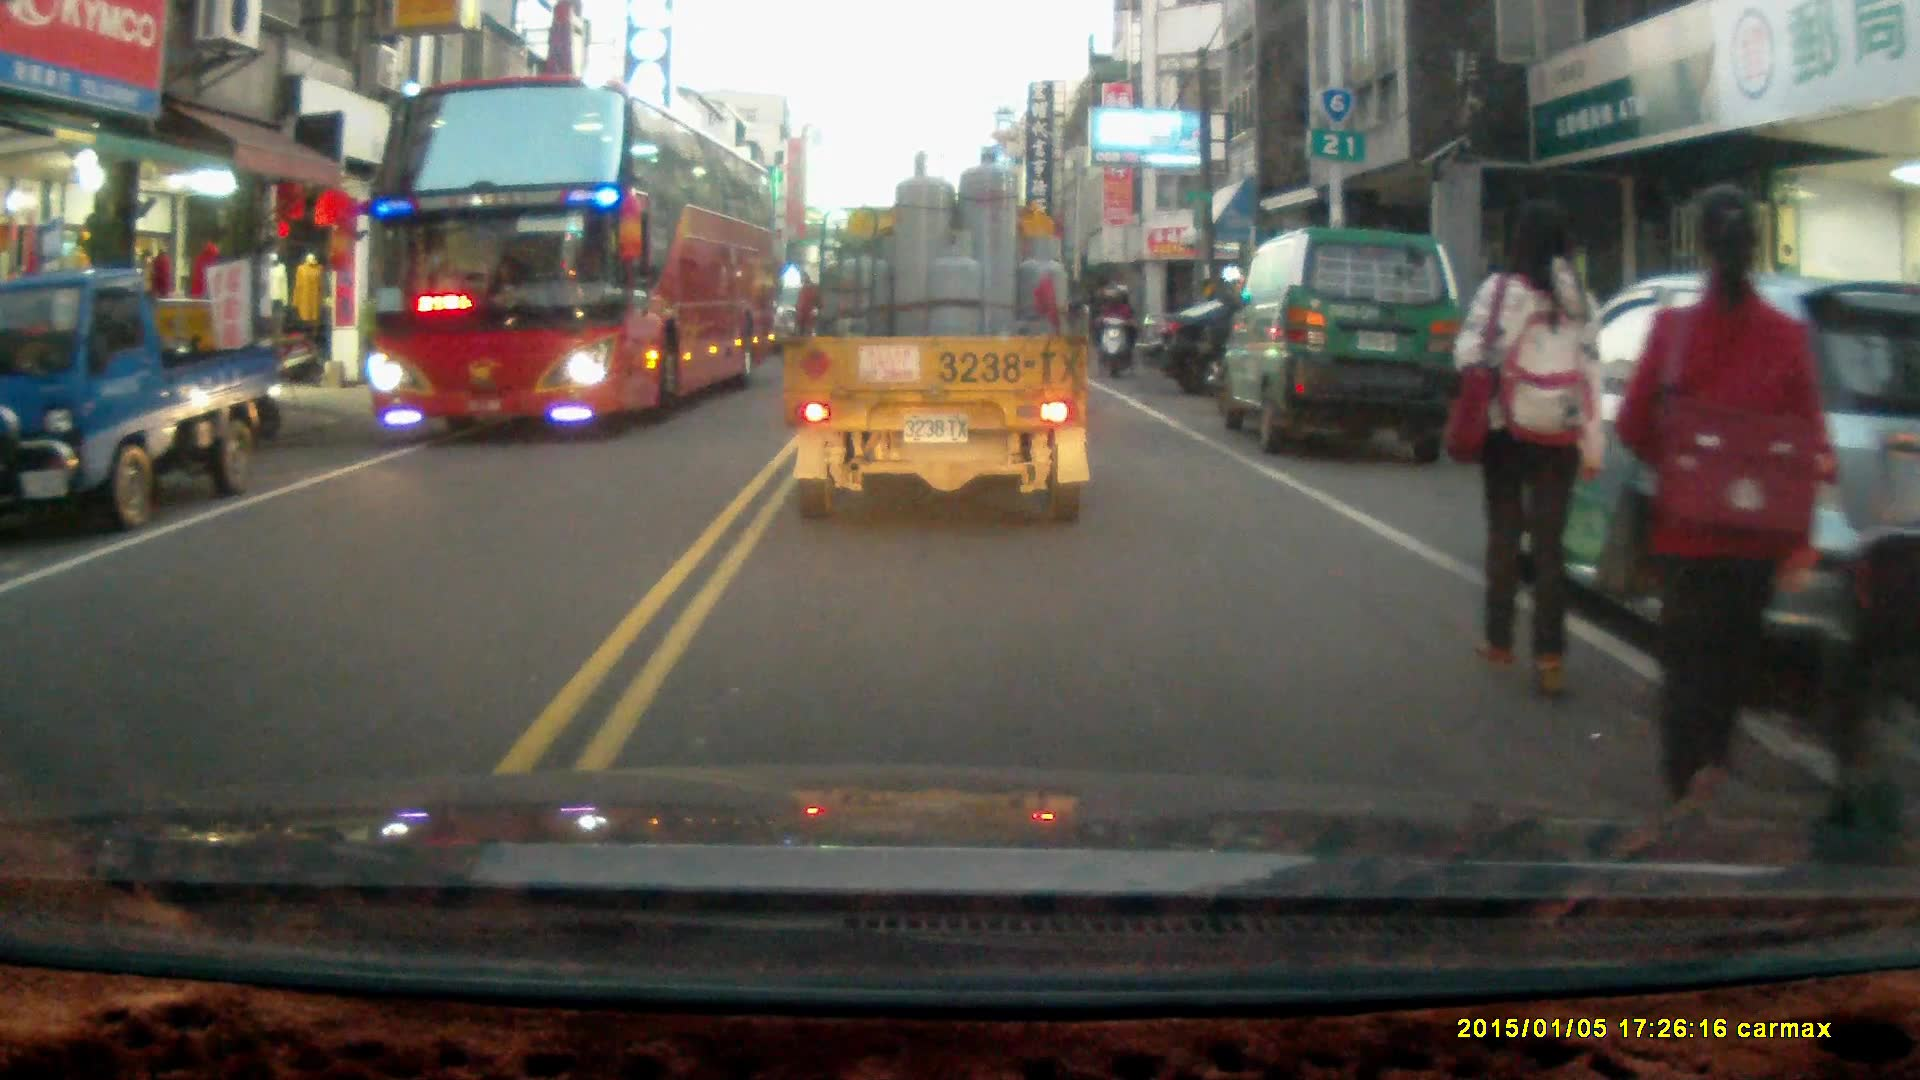pedestrian: (1617, 185, 1833, 884), (1452, 197, 1610, 706)
rider: (1091, 283, 1135, 378)
vehicle: (360, 79, 783, 442), (784, 148, 1095, 532), (1, 267, 287, 533), (1220, 225, 1462, 456), (1133, 302, 1429, 403)
